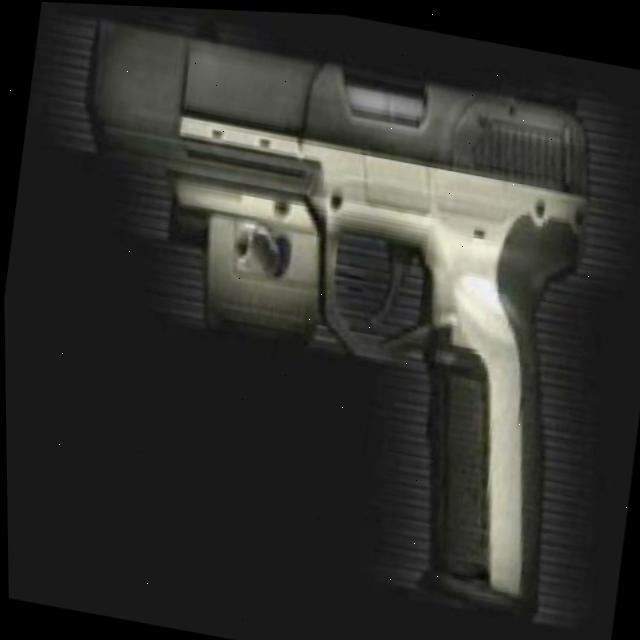gun: (16, 1, 618, 636)
